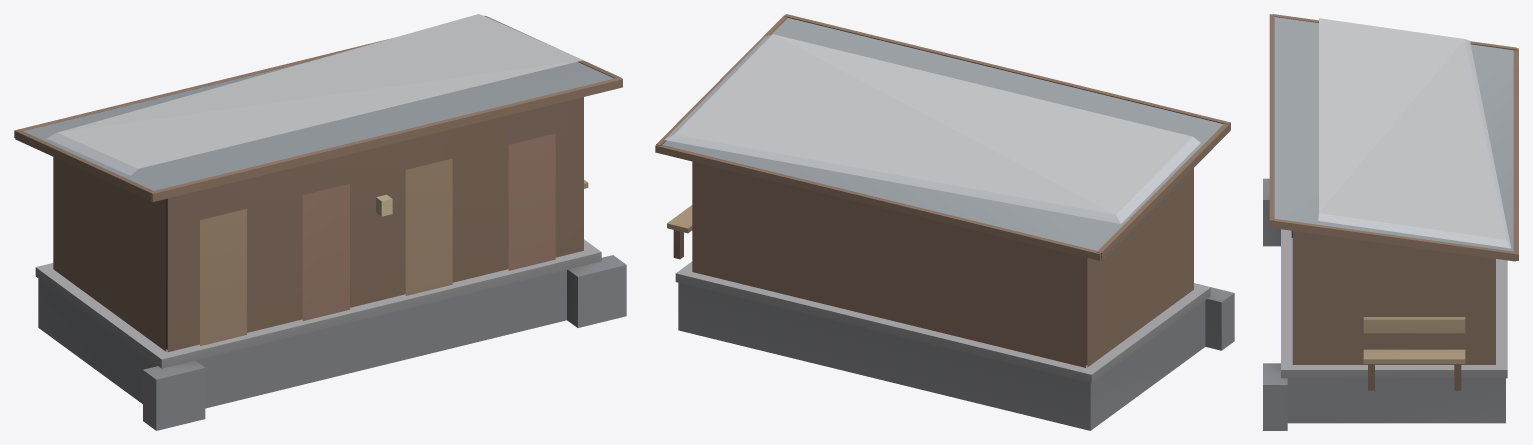
File: washhouse.lod2.glb
3 renders of one model, left to right at view 1: azimuth 30°, elevation 25°; view 2: azimuth 150°, elevation 25°; view 3: azimuth 270°, elevation 25°, orthographic. The views are drawn at different scales.
Bounding box in the file's own units: 9.97 × 4.61 × 5.03.
